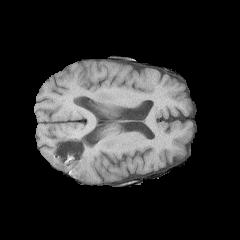glioma: (55, 136, 96, 178)
